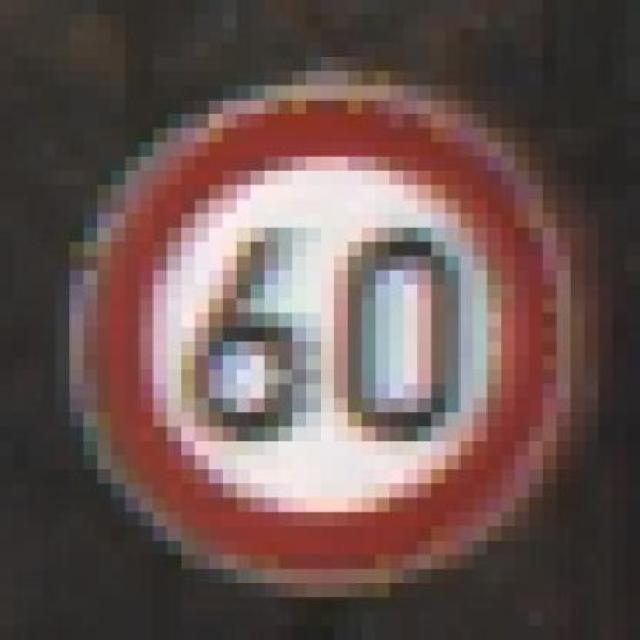forb_speed_over_60: (91, 93, 555, 579)
